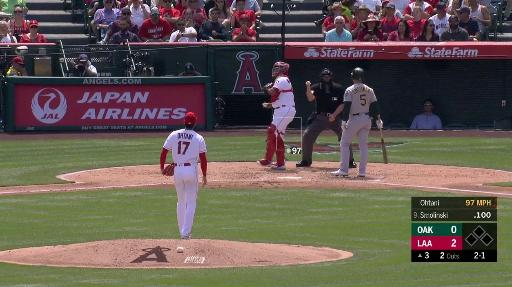pitcher: (160, 111, 212, 239)
